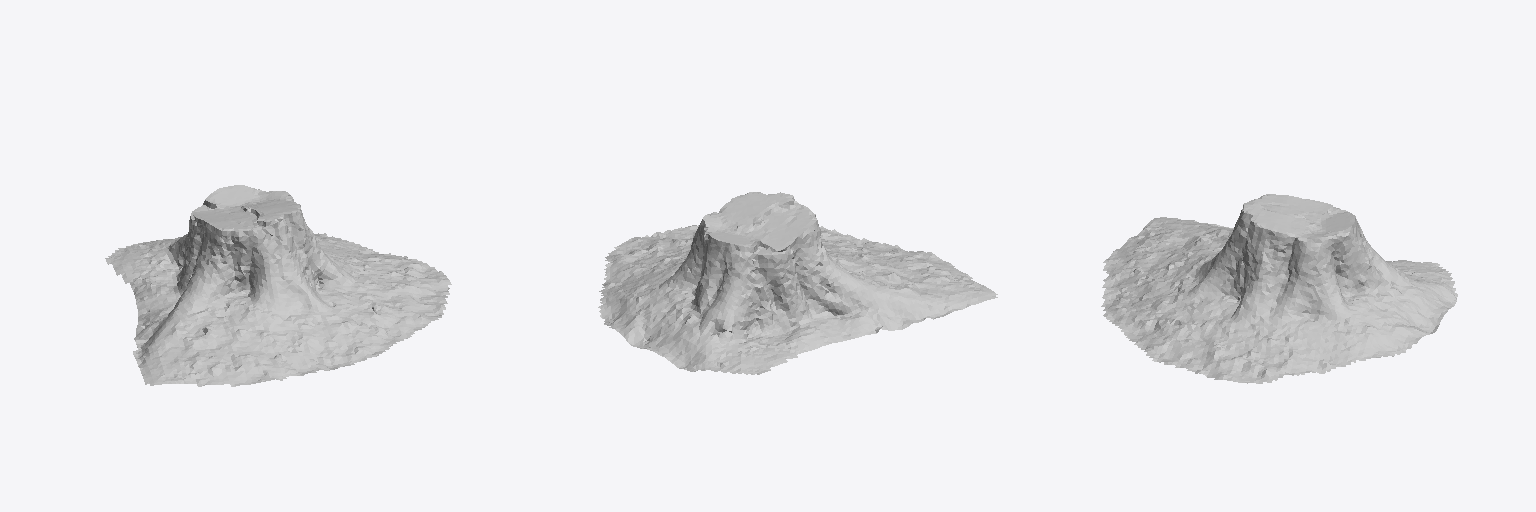
The model's file is trunk.obj.
The picture shows the model from 3 angles: view 1: azimuth 30°, elevation 25°; view 2: azimuth 150°, elevation 25°; view 3: azimuth 270°, elevation 25°; orthographic projection.
Parts seen in each view (by area): view 1: stump_final_upload_stump_final_low.001; view 2: stump_final_upload_stump_final_low.001; view 3: stump_final_upload_stump_final_low.001.
Part boxes in pixels (x1,y1,x2,y2): stump_final_upload_stump_final_low.001: (105,185,451,386); stump_final_upload_stump_final_low.001: (598,192,997,374); stump_final_upload_stump_final_low.001: (1101,194,1457,383).
Bounding box in the file's own units: 1.65 × 0.456 × 1.5.